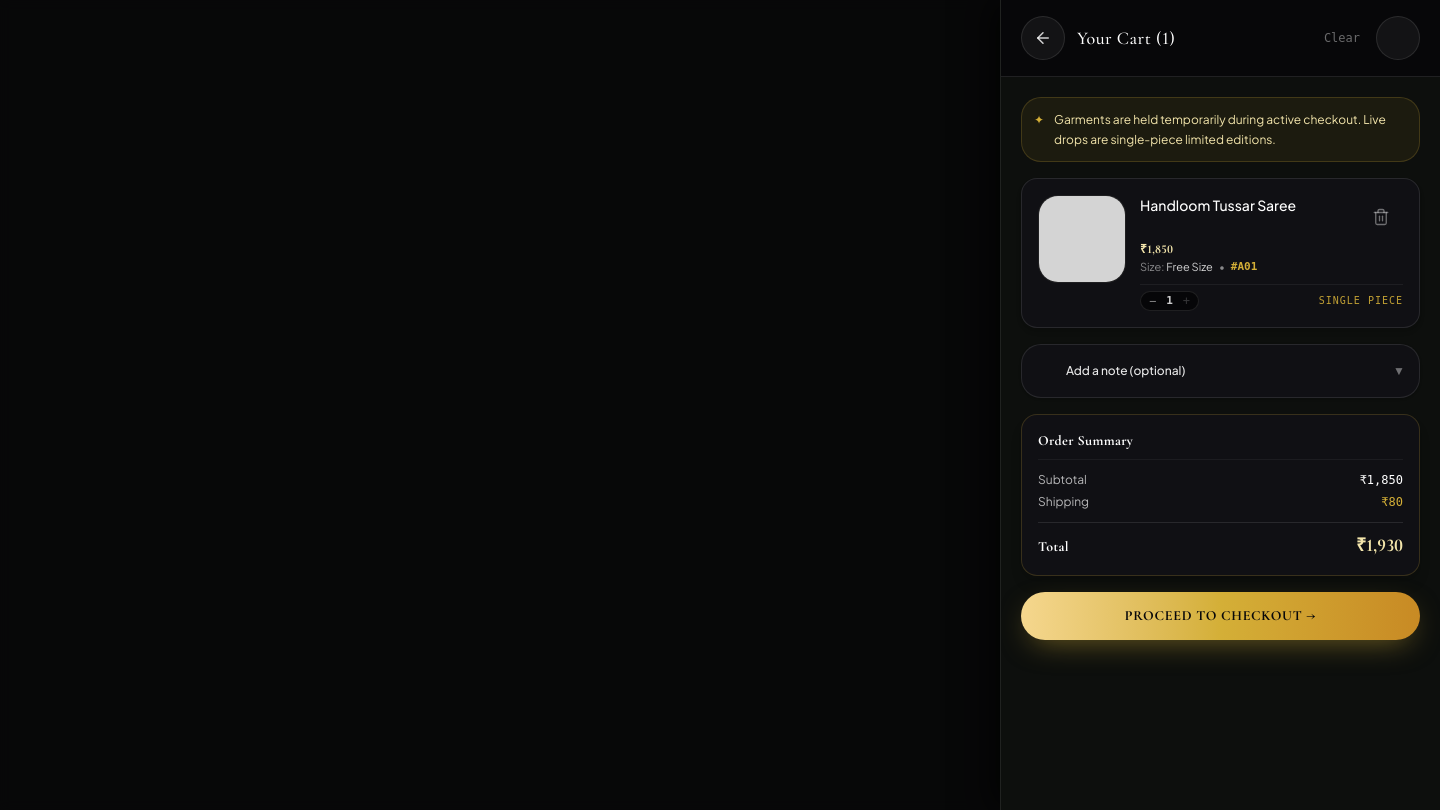
TASK-2.2: StickyCartBar & CartDrawer UI Components › renders CartDrawer with items, prominent flash code, remove button, and subtotal
The image size is (1440, 810).
Expected: the dialog with test id "cart-drawer" is shown, [1000, 0, 1439, 809]
Expected: the text "#A01" is shown, [1231, 259, 1257, 276]
# Remove item
Click the button with test id "cart-remove-prod-01": (1381, 217) [1359, 195, 1403, 239]
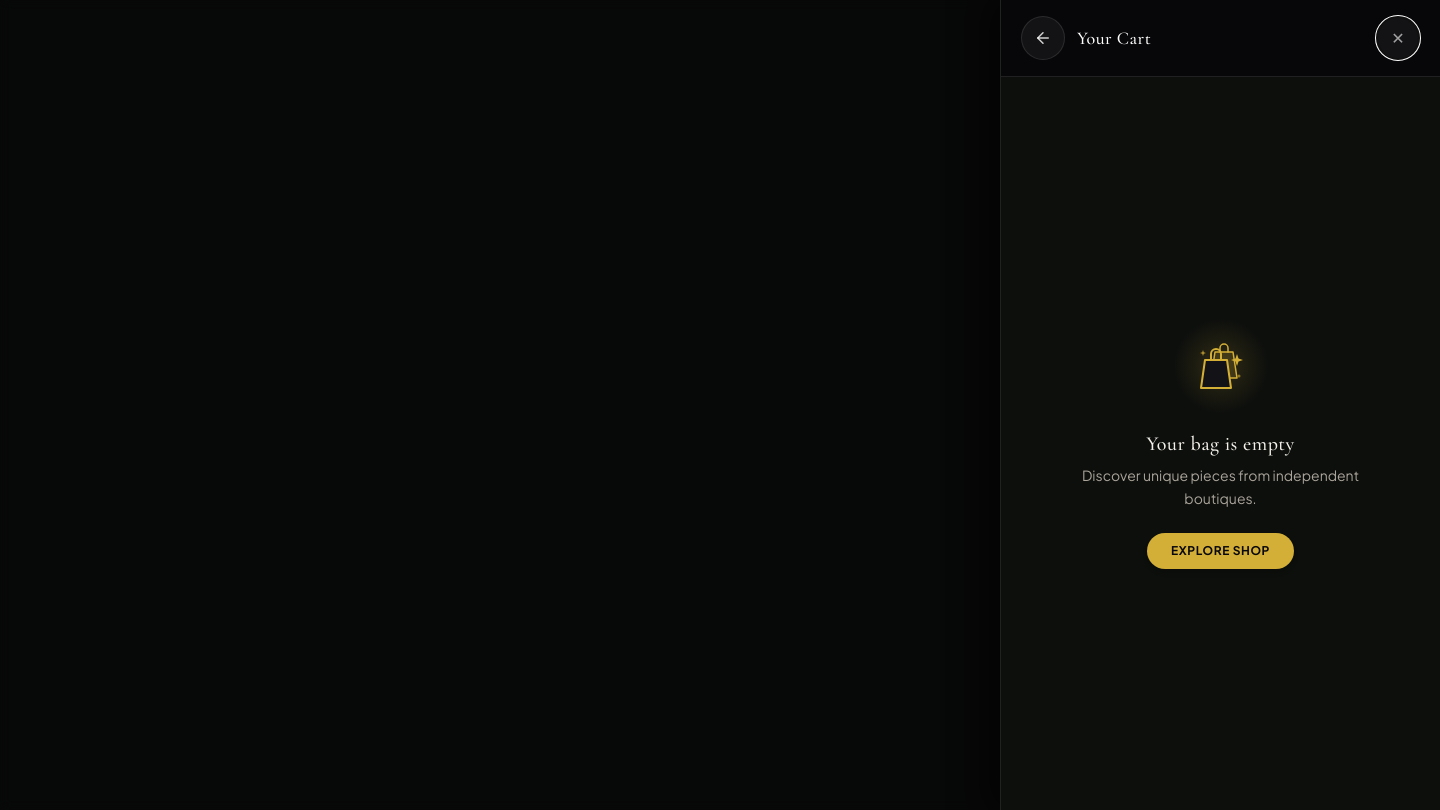
Expected: the element with test id "cart-empty-state" is shown, [1082, 318, 1359, 569]
